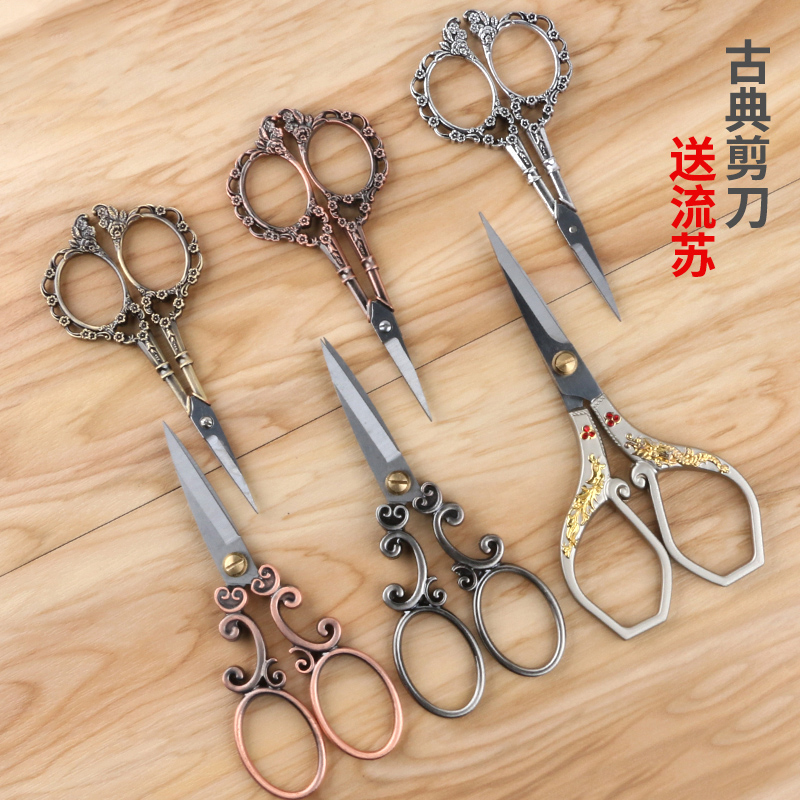scissors: (469, 209, 772, 645), (307, 334, 573, 725), (148, 416, 413, 800), (35, 197, 266, 522), (224, 105, 442, 430), (405, 9, 624, 326)
